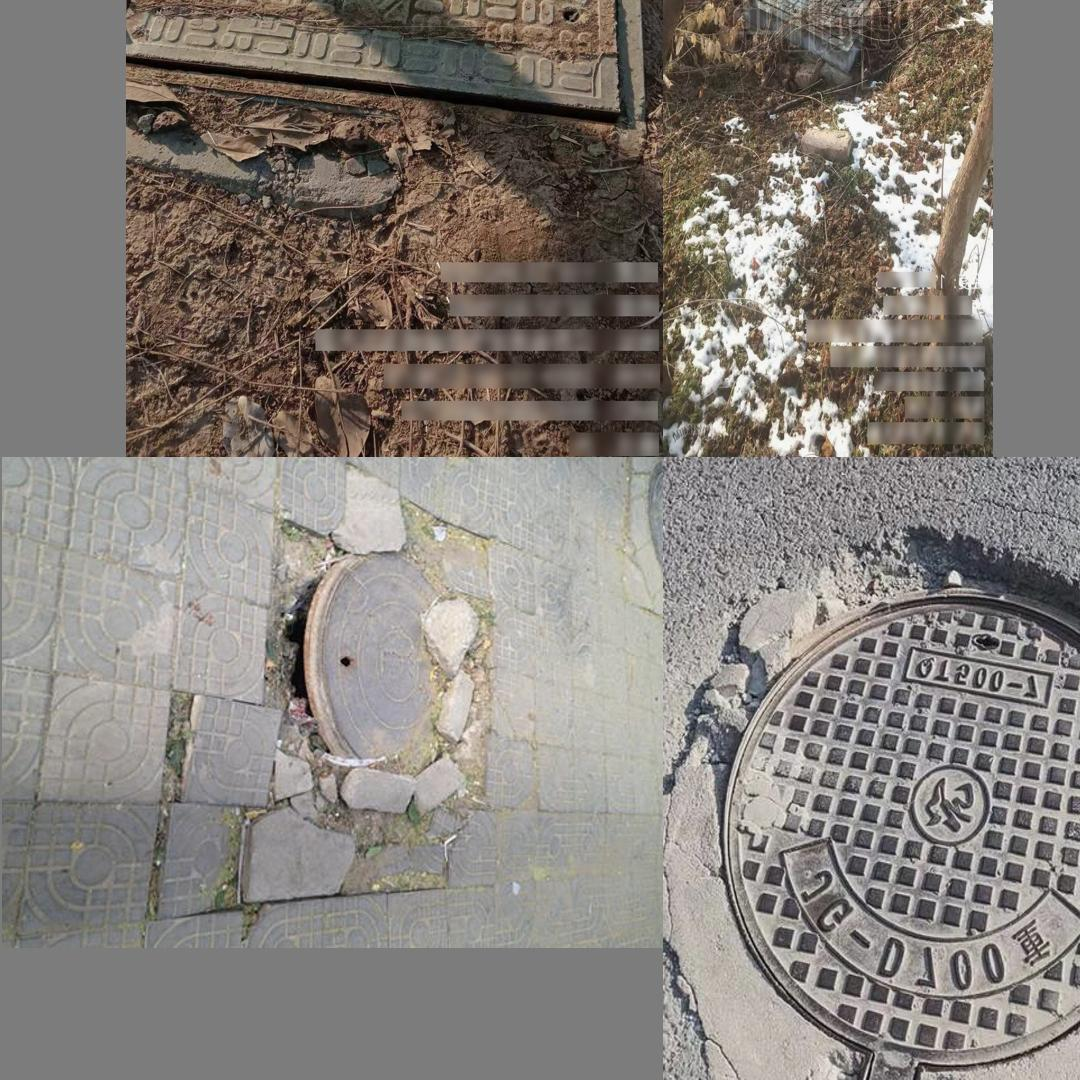circle: (682, 545, 1080, 1080), (238, 519, 497, 907), (126, 0, 655, 141), (740, 0, 912, 79)
